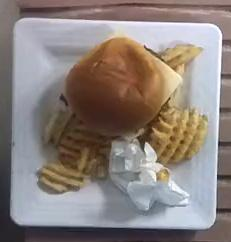burger: (66, 37, 182, 136)
fries: (38, 112, 115, 193), (153, 44, 201, 73)
